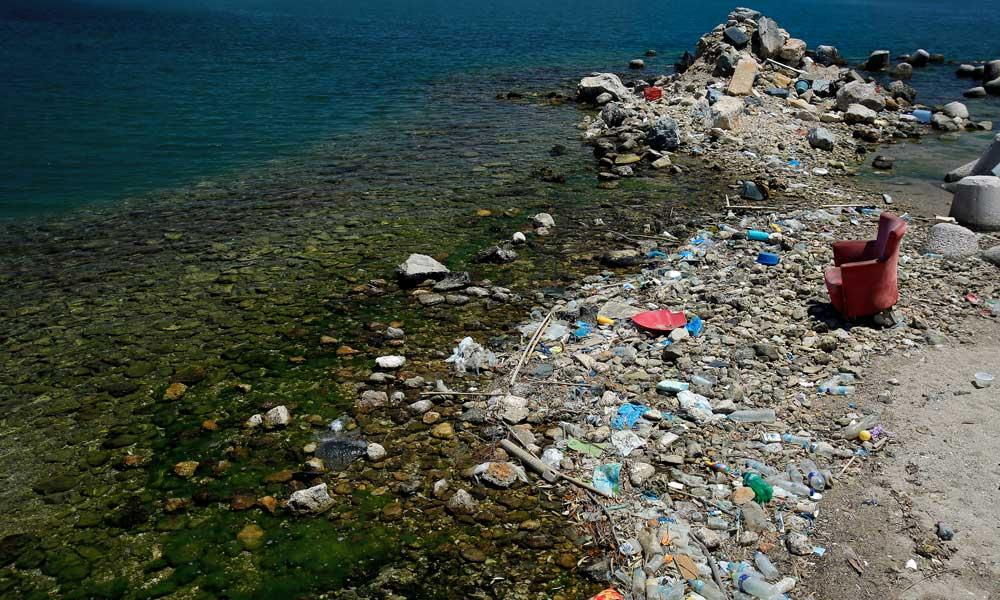garbage: (512, 35, 943, 596)
